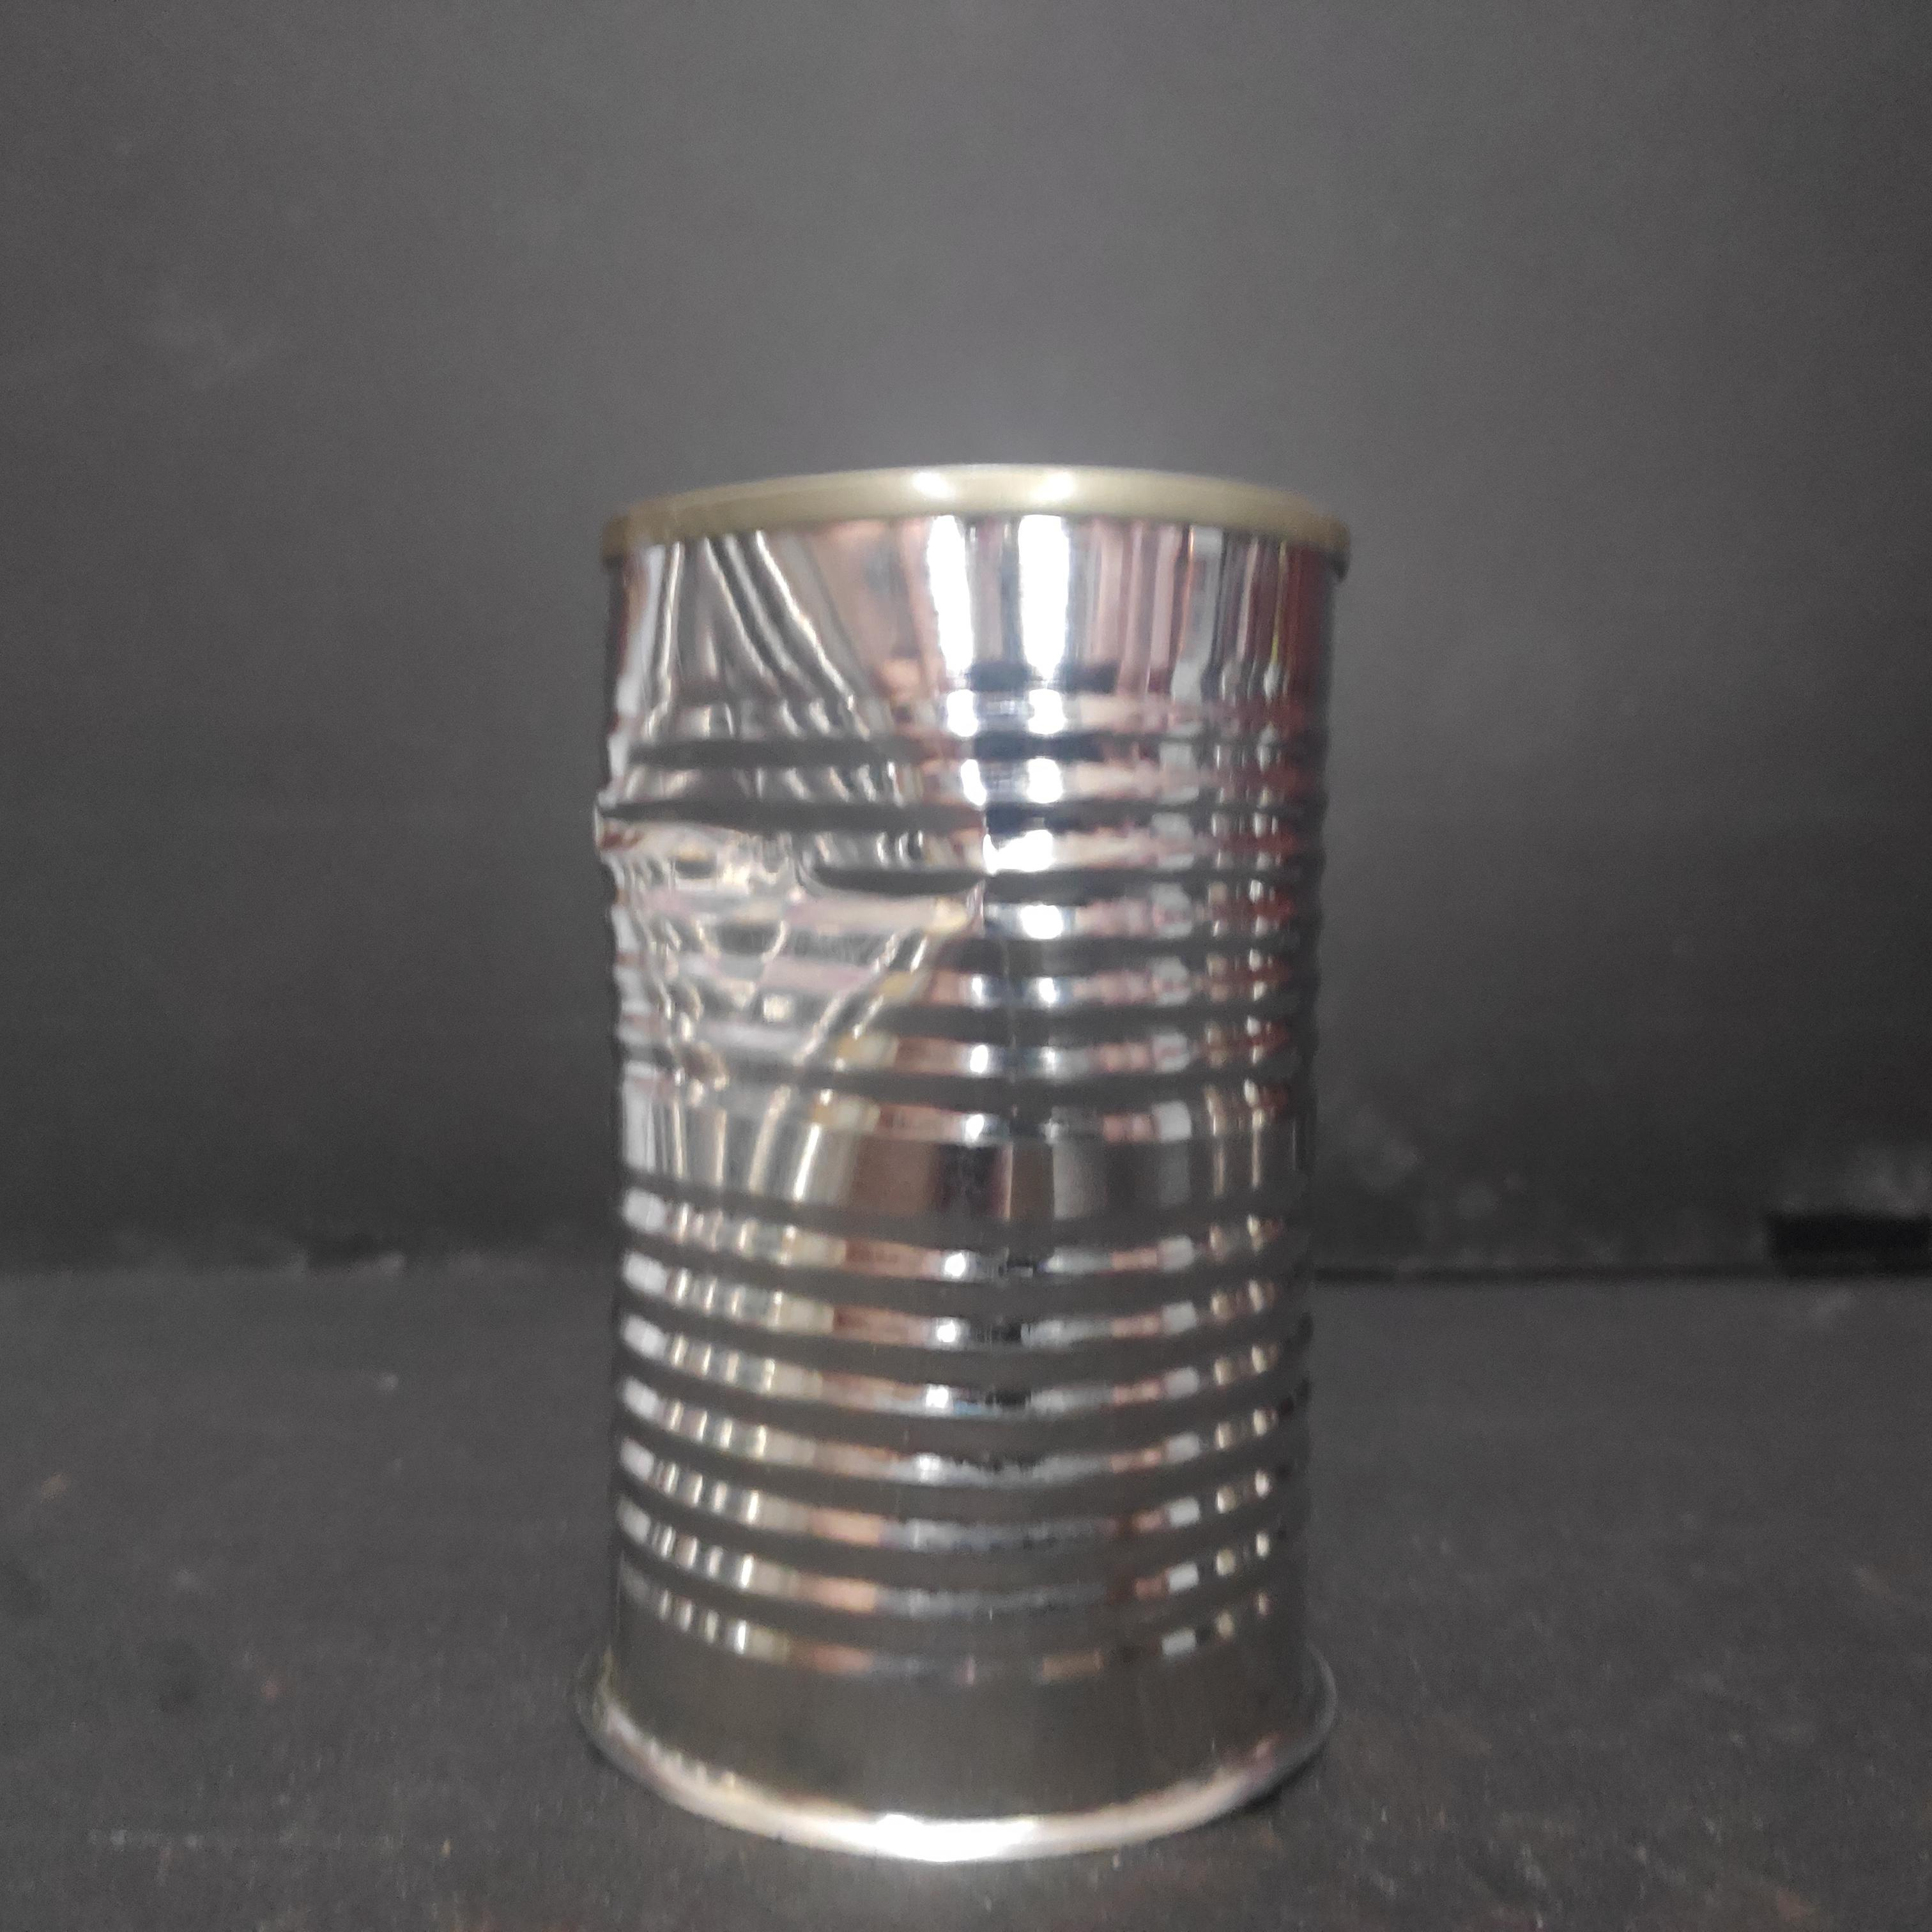Minor Defect: (577, 455, 1355, 1877)
